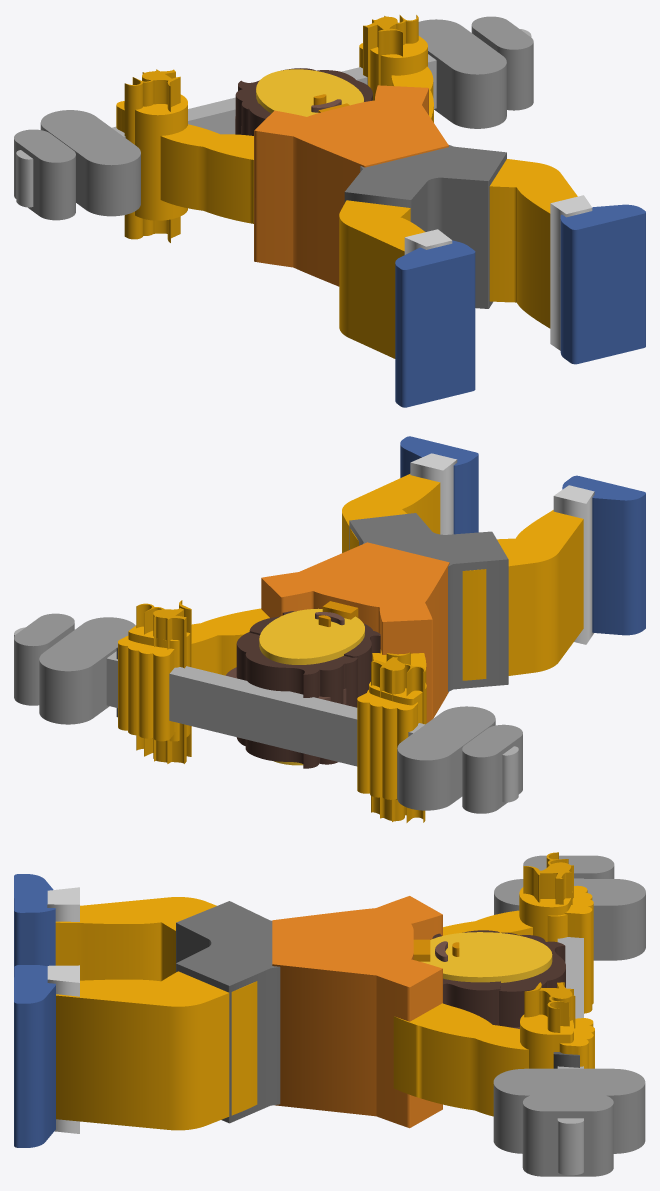
File: emoji_u1f3cb.glb
3 renders of one model, top to bottom at view 1: azimuth 30°, elevation 25°; view 2: azimuth 150°, elevation 25°; view 3: azimuth 270°, elevation 25°, orthographic. The views are drawn at different scales.
Parts seen in each view (by area): view 1: emoji_u1f3cb; view 2: emoji_u1f3cb; view 3: emoji_u1f3cb.
Part boxes in pixels (x1,y1,x2,y2): emoji_u1f3cb: [14, 15, 645, 407]; emoji_u1f3cb: [14, 436, 645, 822]; emoji_u1f3cb: [14, 852, 645, 1176].
Bounding box in the file's own units: 0.0334 × 0.0098 × 0.0333.
